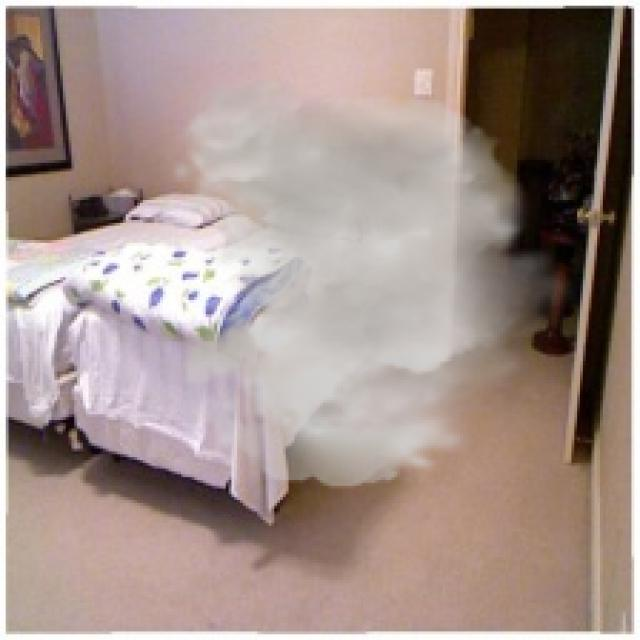smoke: (166, 77, 580, 489)
